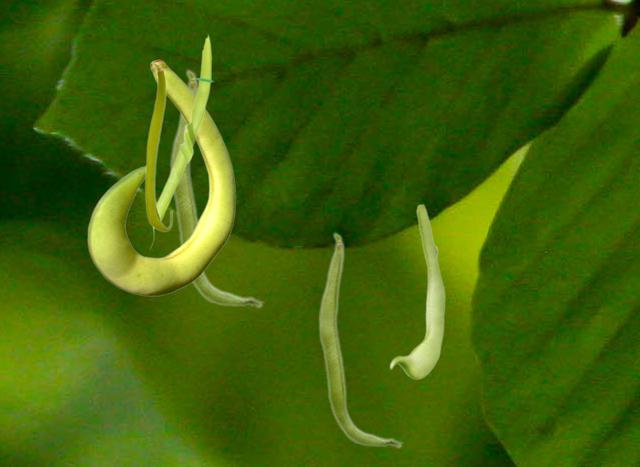french_bean: (87, 59, 235, 295), (168, 68, 263, 308), (317, 231, 402, 448), (149, 32, 213, 249), (389, 203, 444, 378), (144, 61, 172, 231)
